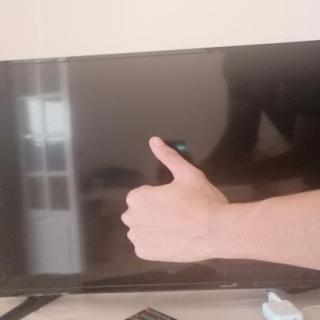ALIF: (117, 131, 236, 272)
